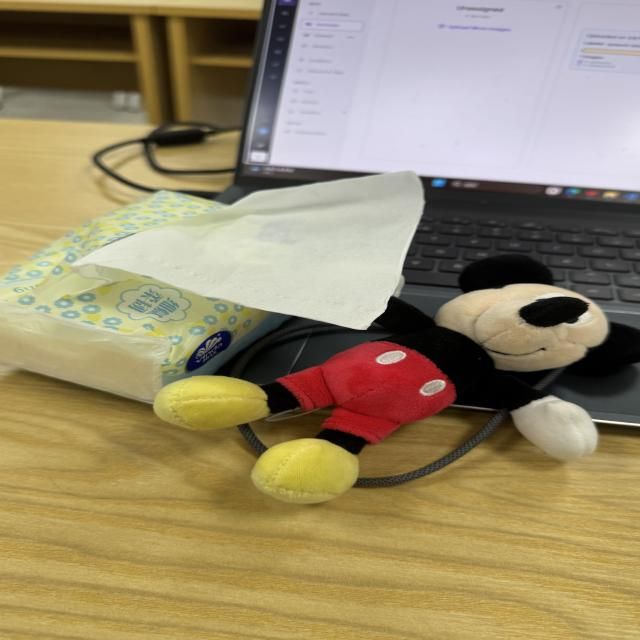mickey: (155, 256, 627, 502)
tissue: (0, 192, 287, 401), (73, 172, 424, 329)
